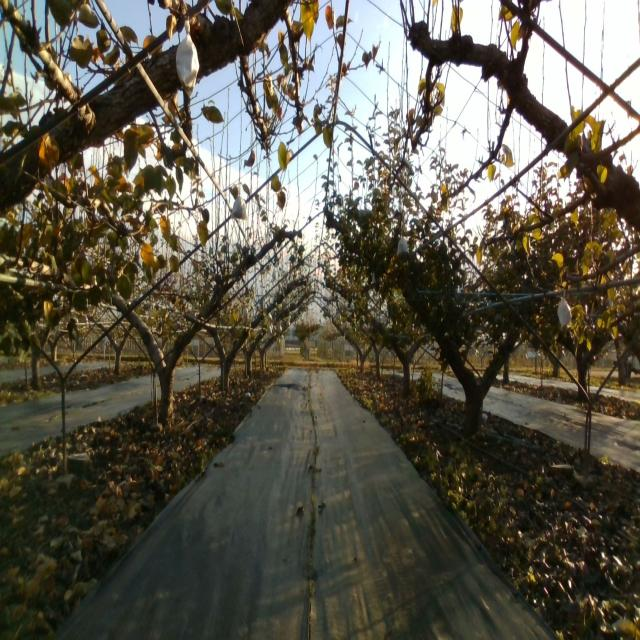pearbags: (176, 22, 201, 100), (558, 296, 572, 329), (231, 196, 248, 220), (397, 236, 410, 257)
